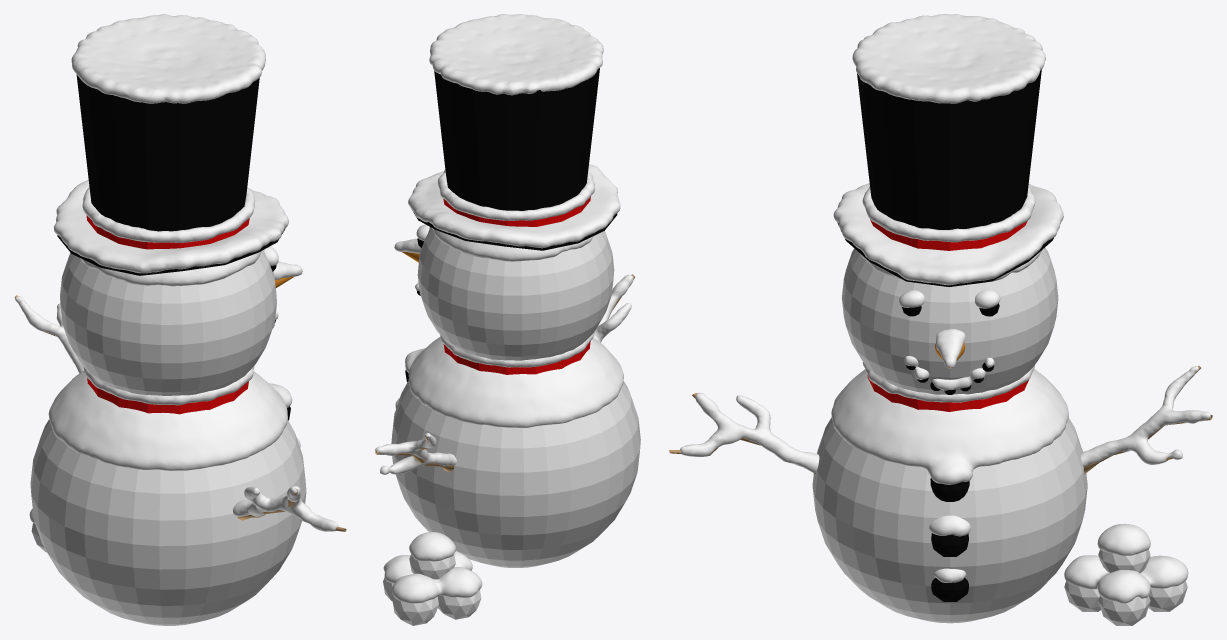
Rendered from Snow Man SNOW.fbx.
3 renders of one model, left to right at view 1: azimuth 30°, elevation 25°; view 2: azimuth 150°, elevation 25°; view 3: azimuth 270°, elevation 25°, orthographic. The views are drawn at different scales.
Parts seen in each view (by area): view 1: Icosphere.001, SnowBall.001; view 2: Icosphere.001, SnowBall.001; view 3: Icosphere.001, SnowBall.001.
Boxes of the visible parts, x1,y1,x2,y2 form: Icosphere.001: (14, 74, 346, 625); SnowBall.001: (15, 14, 338, 531); Icosphere.001: (375, 68, 640, 625); SnowBall.001: (375, 14, 633, 603); Icosphere.001: (669, 69, 1212, 625); SnowBall.001: (680, 14, 1210, 603).
Bounding box in the file's own units: 213 × 448 × 395.
